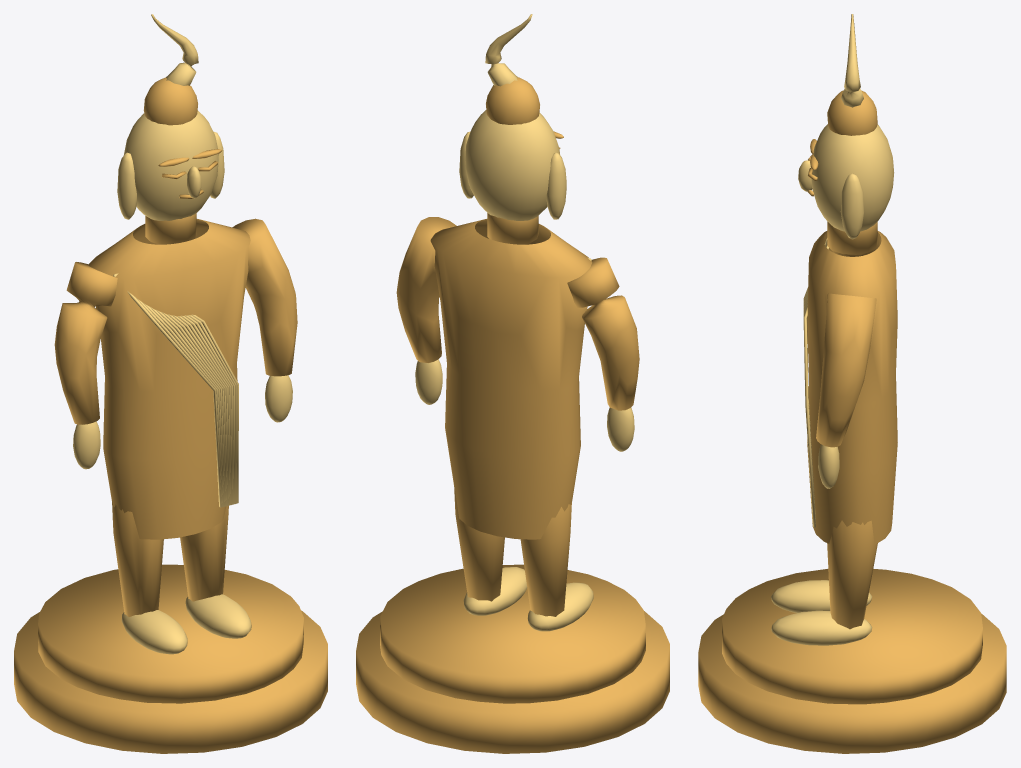
File: buddha-standing.glb
The picture shows the model from 3 angles, left to right: view 1: azimuth 30°, elevation 25°; view 2: azimuth 150°, elevation 25°; view 3: azimuth 270°, elevation 25°; orthographic projection.
Visible parts, largest first — view 1: buddha-standing / Antique warm gold, buddha-standing / Raised gold ornament; view 2: buddha-standing / Antique warm gold, buddha-standing / Raised gold ornament; view 3: buddha-standing / Antique warm gold, buddha-standing / Raised gold ornament.
Part boxes in pixels (x1,y1,x2,y2): buddha-standing / Antique warm gold: (14,77,327,753); buddha-standing / Raised gold ornament: (73,14,292,654); buddha-standing / Antique warm gold: (356,77,669,753); buddha-standing / Raised gold ornament: (415,14,634,631); buddha-standing / Antique warm gold: (698,90,1006,753); buddha-standing / Raised gold ornament: (771,14,894,645).
Bounding box in the file's own units: 1.7 × 4.05 × 1.7.
